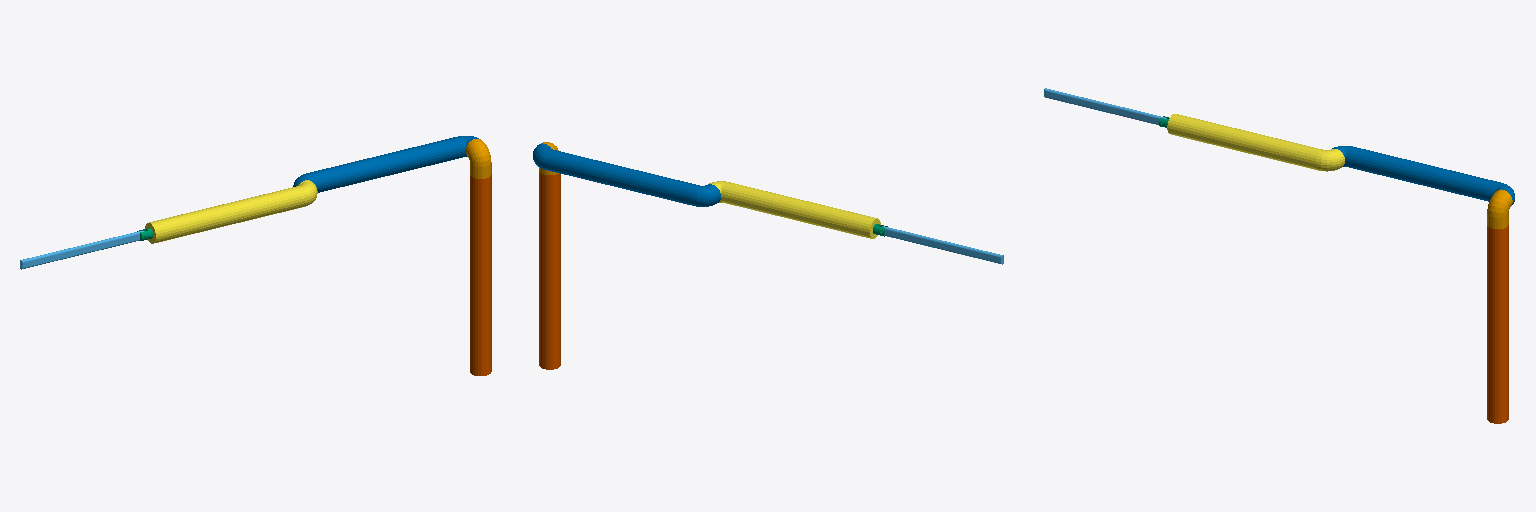
The robot description file, URDF, robot "WalliArm_V2_Block_base":
<?xml version="1.0" encoding="UTF-8"?>
<robot name="WalliArm_V2_Block_base">
  <joint name="base_yaw_joint" type="revolute">
    <origin xyz="0. 0. 0.5" rpy="0. 0. 0." />
    <parent link="World" />
    <child link="WalliArm_V2_Block_base_rotator" />
    <axis xyz="0. 0. 1." />
    <limit lower="-3.1415927" upper="3.1415927" effort="200." velocity="10." />
  </joint>
  <joint name="ee_pitch_joint" type="revolute">
    <origin xyz="0.005 0. 0.0225" rpy="-3.1415927 1.5707963 0. " />
    <parent link="WalliArm_V2_Block_ee_rotary" />
    <child link="WalliArm_V2_Block_ee_rod" />
    <axis xyz="0. 0. 1." />
    <limit lower="-1.5707963" upper="1.5707963" effort="200." velocity="30." />
  </joint>
  <joint name="ee_roll_jont" type="continuous">
    <origin xyz="-0.425 0. 0.025" rpy="-3.1415927 1.5707963 0. " />
    <parent link="WalliArm_V2_Block_fore_arm" />
    <child link="WalliArm_V2_Block_ee_rotary" />
    <axis xyz="0. 0. 1." />
    <limit effort="200." velocity="50." />
  </joint>
  <joint name="fore_arm_joint" type="revolute">
    <origin xyz="-0.45 0. 0. " rpy="3.1415927 0. 0. " />
    <parent link="WalliArm_V2_Block_upper_arm" />
    <child link="WalliArm_V2_Block_fore_arm" />
    <axis xyz="0. 0. 1." />
    <limit lower="-3.1415927" upper="3.1415927" effort="200." velocity="20." />
  </joint>
  <joint name="upper_arm_joint" type="revolute">
    <origin xyz="0. 0.025 0.055" rpy="-1.5707964 0. 0. " />
    <parent link="WalliArm_V2_Block_base_rotator" />
    <child link="WalliArm_V2_Block_upper_arm" />
    <axis xyz="0. 0. 1." />
    <limit lower="-1.225" upper="3.830" effort="200." velocity="20." />
  </joint>
  <link name="WalliArm_V2_Block_base_rotator">
    <visual>
      <origin xyz="0. 0. -0.5" rpy="0. 0. 0." />
      <geometry>
        <mesh
          filename="package://urc_arm_models/urdf/meshes/WalliArm_V2_Block_base_rotator_base_rotator.obj"
          scale="1. 1. 1." />
      </geometry>
    </visual>
    <collision>
      <geometry>
        <mesh
          filename="package://urc_arm_models/urdf/meshes/WalliArm_V2_Block_base_rotator_base_rotator.obj"
          scale="1. 1. 1." />
      </geometry>
    </collision>
  </link>
  <link name="WalliArm_V2_Block_ee_rod">
    <visual>
      <origin xyz="0.8975 -0.555 0.005 " rpy="-1.5707964 0. 0. " />
      <geometry>
        <mesh filename="package://urc_arm_models/urdf/meshes/WalliArm_V2_Block_ee_rod_ee_rod.obj"
          scale="1. 1. 1." />
      </geometry>
    </visual>
    <collision>
      <geometry>
        <mesh filename="package://urc_arm_models/urdf/meshes/WalliArm_V2_Block_ee_rod_ee_rod.obj"
          scale="1. 1. 1." />
      </geometry>
    </collision>
  </link>
  <link name="WalliArm_V2_Block_ee_rotary">
    <visual>
      <origin xyz="0. 0.555 -0.875" rpy="1.5707964 1.5707964 0. " />
      <geometry>
        <mesh
          filename="package://urc_arm_models/urdf/meshes/WalliArm_V2_Block_ee_rotary_ee_rotary.obj"
          scale="1. 1. 1." />
      </geometry>
    </visual>
    <collision>
      <geometry>
        <mesh
          filename="package://urc_arm_models/urdf/meshes/WalliArm_V2_Block_ee_rotary_ee_rotary.obj"
          scale="1. 1. 1." />
      </geometry>
    </collision>
  </link>
  <link name="WalliArm_V2_Block_fore_arm">
    <visual>
      <origin xyz="0.45 -0.555 0.025" rpy="-1.5707964 0. 0. " />
      <geometry>
        <mesh
          filename="package://urc_arm_models/urdf/meshes/WalliArm_V2_Block_fore_arm_fore_arm.obj"
          scale="1. 1. 1." />
      </geometry>
    </visual>
    <collision>
      <geometry>
        <mesh
          filename="package://urc_arm_models/urdf/meshes/WalliArm_V2_Block_fore_arm_fore_arm.obj"
          scale="1. 1. 1." />
      </geometry>
    </collision>
  </link>
  <link name="WalliArm_V2_Block_upper_arm">
    <visual>
      <origin xyz="0. 0.555 -0.025" rpy="1.5707964 0. 0. " />
      <geometry>
        <mesh
          filename="package://urc_arm_models/urdf/meshes/WalliArm_V2_Block_upper_arm_upper_arm.obj"
          scale="1. 1. 1." />
      </geometry>
    </visual>
    <collision>
      <geometry>
        <mesh
          filename="package://urc_arm_models/urdf/meshes/WalliArm_V2_Block_upper_arm_upper_arm.obj"
          scale="1. 1. 1." />
      </geometry>
    </collision>
  </link>
  <link name="World">
    <visual>
      <origin xyz="0. 0. 0." rpy="0. 0. 0." />
      <geometry>
        <mesh filename="package://urc_arm_models/urdf/meshes/WalliArm_V2_Block_spine_spine.obj"
          scale="1. 1. 1." />
      </geometry>
    </visual>
    <collision>
      <geometry>
        <mesh filename="package://urc_arm_models/urdf/meshes/WalliArm_V2_Block_spine_spine.obj"
          scale="1. 1. 1." />
      </geometry>
    </collision>
  </link>
</robot>

--- Render facts (derived) ---
3 views of the same robot in one strip: view 1: azimuth 30°, elevation 25°; view 2: azimuth 150°, elevation 25°; view 3: azimuth 330°, elevation 25° (orthographic).
Model WalliArm_V2_Block_base with 6 links and 5 joints (4 revolute, 1 continuous), rooted at World, posed every joint at zero.
Visible links, largest first — view 1: World, WalliArm_V2_Block_fore_arm, WalliArm_V2_Block_upper_arm, WalliArm_V2_Block_ee_rod, WalliArm_V2_Block_base_rotator; view 2: World, WalliArm_V2_Block_upper_arm, WalliArm_V2_Block_fore_arm, WalliArm_V2_Block_ee_rod; view 3: World, WalliArm_V2_Block_fore_arm, WalliArm_V2_Block_upper_arm, WalliArm_V2_Block_ee_rod, WalliArm_V2_Block_base_rotator.
Link boxes in pixels (x1=…): World: x1=470, y1=174, x2=491, y2=375; WalliArm_V2_Block_fore_arm: x1=145, y1=180, x2=317, y2=243; WalliArm_V2_Block_upper_arm: x1=293, y1=136, x2=478, y2=192; WalliArm_V2_Block_ee_rod: x1=20, y1=231, x2=143, y2=269; WalliArm_V2_Block_base_rotator: x1=466, y1=139, x2=491, y2=178; World: x1=539, y1=172, x2=560, y2=369; WalliArm_V2_Block_upper_arm: x1=533, y1=143, x2=720, y2=206; WalliArm_V2_Block_fore_arm: x1=709, y1=181, x2=880, y2=238; WalliArm_V2_Block_ee_rod: x1=882, y1=226, x2=1003, y2=264; World: x1=1487, y1=225, x2=1508, y2=423; WalliArm_V2_Block_fore_arm: x1=1167, y1=114, x2=1344, y2=171; WalliArm_V2_Block_upper_arm: x1=1332, y1=146, x2=1514, y2=204; WalliArm_V2_Block_ee_rod: x1=1044, y1=88, x2=1166, y2=124; WalliArm_V2_Block_base_rotator: x1=1487, y1=189, x2=1512, y2=228.
Bounding box of the posed robot: 1.24 × 0.1 × 0.58 m (x, y, z).
Meshes: 6 distinct files referenced, 6 mesh visuals loaded (6 OBJ).